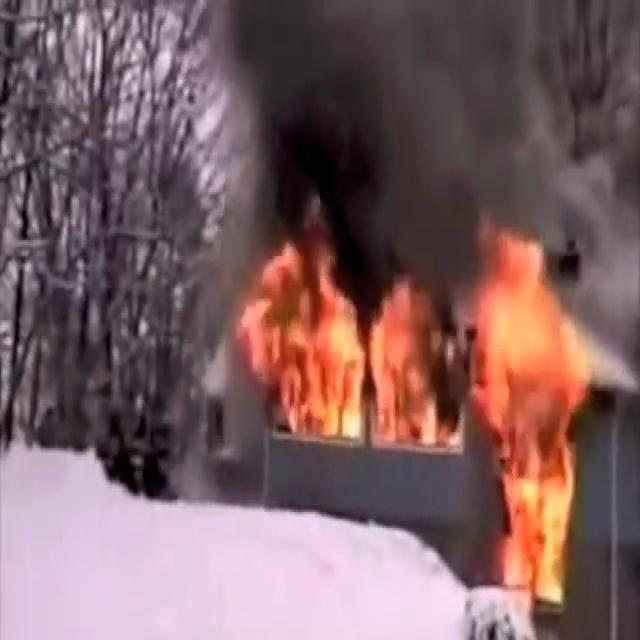Fire: (464, 220, 598, 620), (244, 219, 457, 457)
Smoke: (201, 0, 638, 290)
